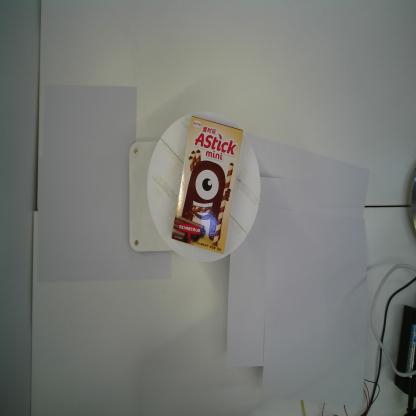Dessert: (170, 115, 244, 257)
